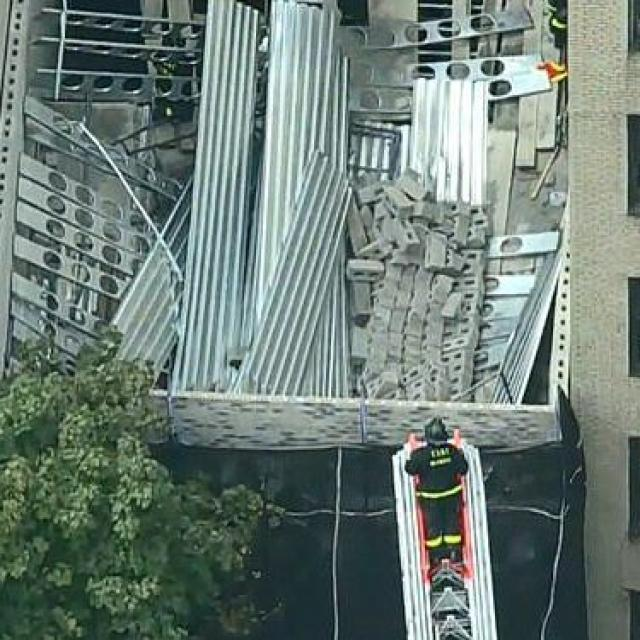collapsed_building: (205, 0, 572, 441)
